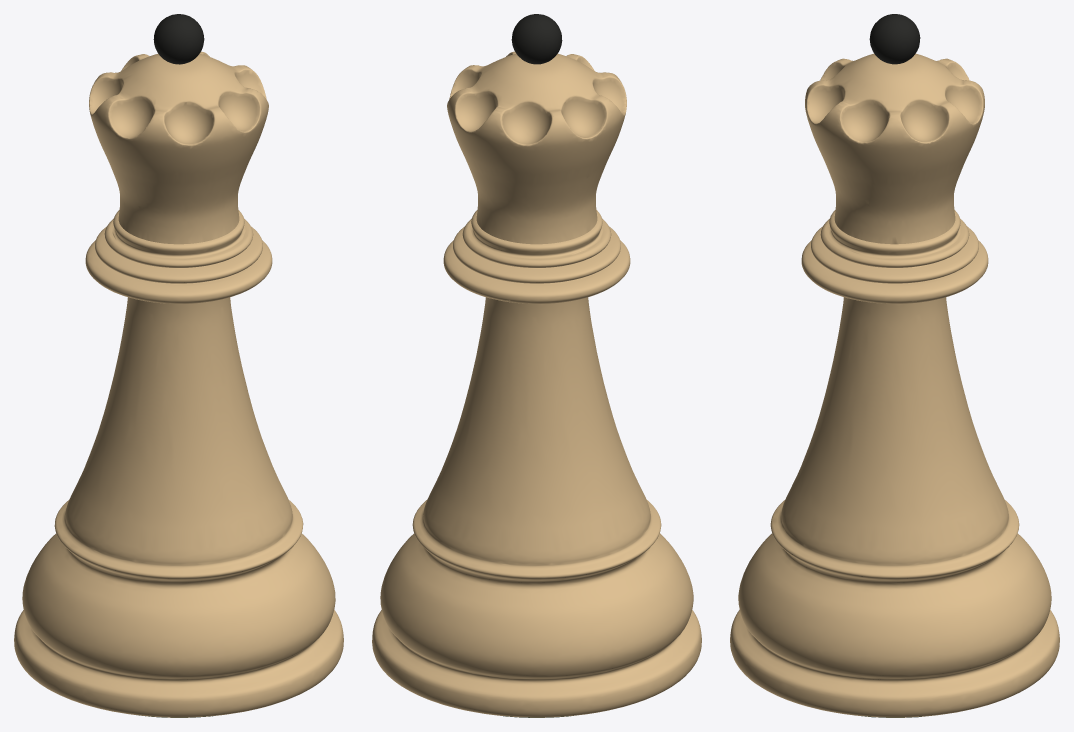
File: queen.glb
3 views of the same model, side by side, from view 1: azimuth 30°, elevation 25°; view 2: azimuth 150°, elevation 25°; view 3: azimuth 270°, elevation 25° (orthographic).
Parts seen in each view (by area): view 1: Queen.002; view 2: Queen.002; view 3: Queen.002.
Boxes of the visible parts, x1,y1,x2,y2 form: Queen.002: [14, 14, 343, 717]; Queen.002: [372, 14, 701, 717]; Queen.002: [730, 14, 1059, 717].
Size of the model in its own units: 0.0392 by 0.0843 by 0.0392.
